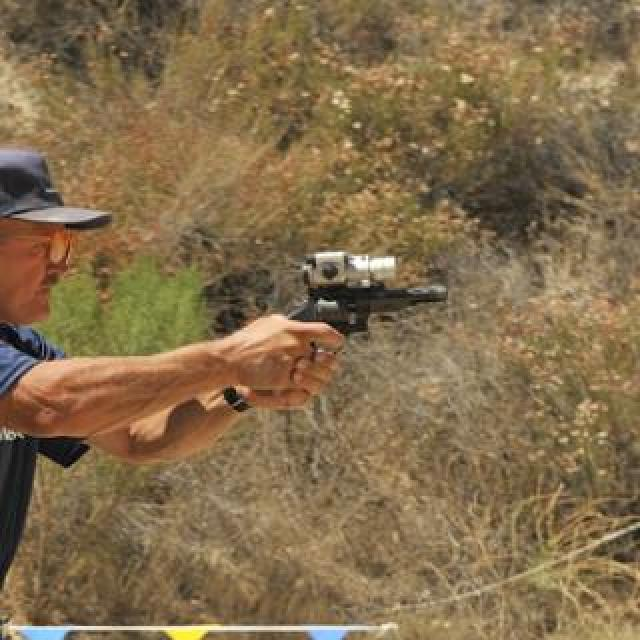Guns: (277, 236, 456, 375)
